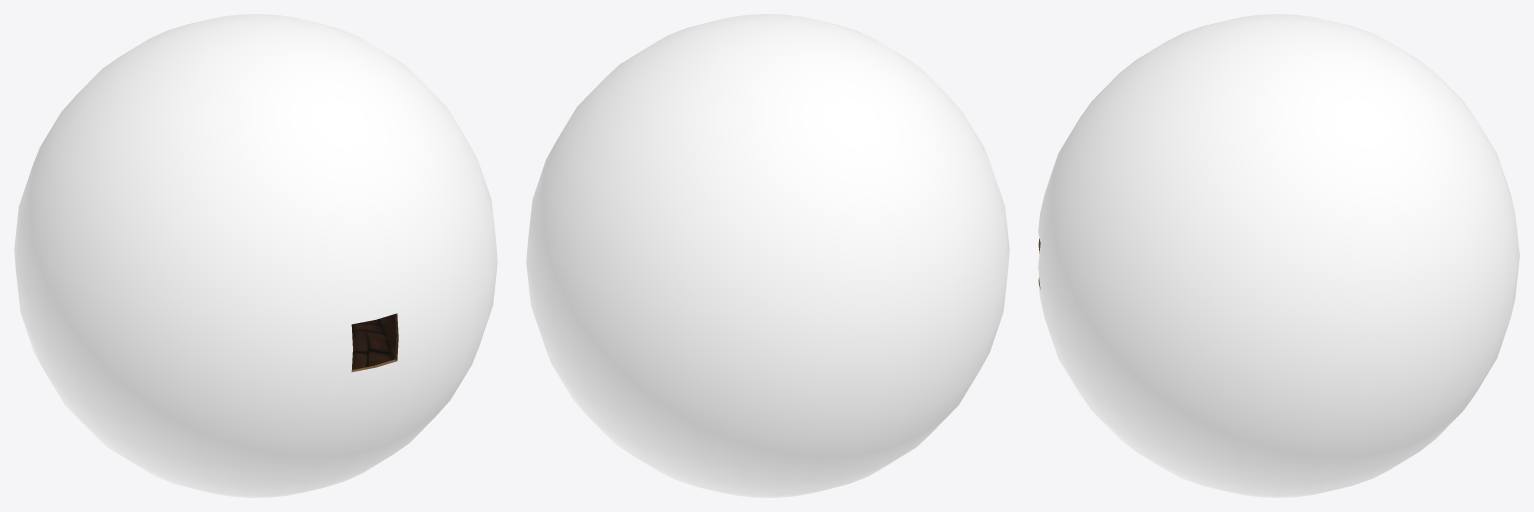
File: tavern360.glb
3 renders of one model, left to right at view 1: azimuth 30°, elevation 25°; view 2: azimuth 150°, elevation 25°; view 3: azimuth 270°, elevation 25°, orthographic.
Visible parts, largest first — view 1: occluder, photoSphere; view 2: occluder; view 3: occluder.
Part boxes in pixels (x1,y1,x2,y2): occluder: [14, 14, 497, 497]; photoSphere: [351, 314, 396, 369]; occluder: [526, 14, 1009, 497]; occluder: [1038, 14, 1519, 497].
Size of the model in its own units: 9.18 by 9.18 by 9.13.
Materials: 3 (1 with a texture image).
